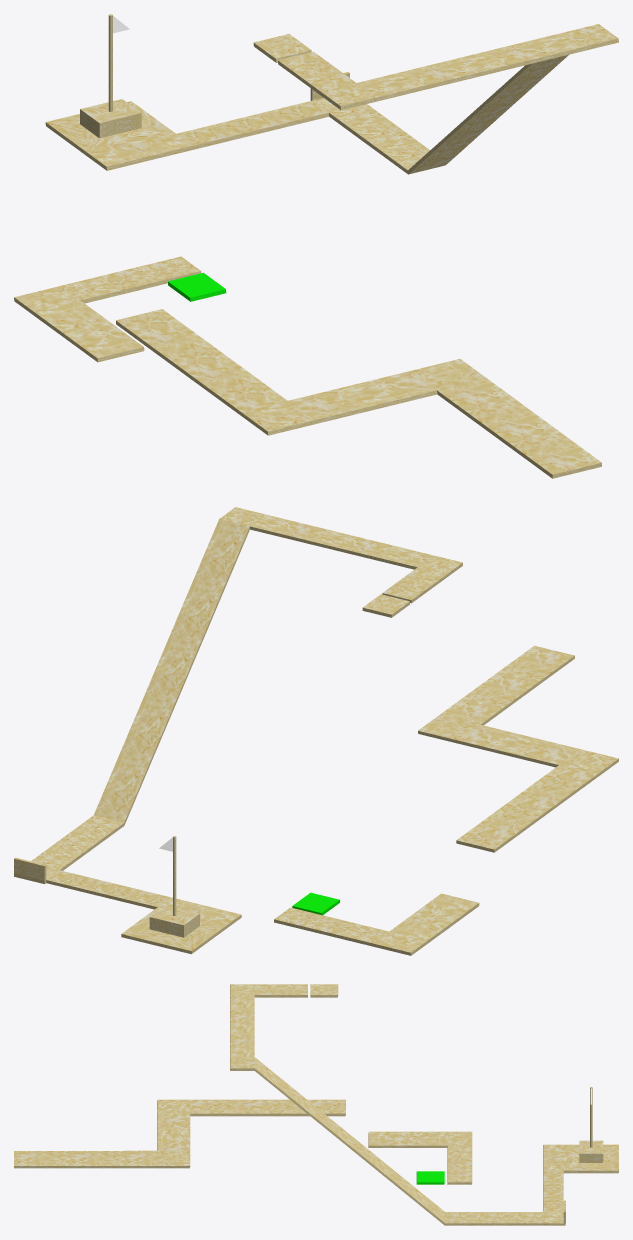
The model's file is level1.glb.
3 views of the same model, one above another, from view 1: azimuth 30°, elevation 25°; view 2: azimuth 150°, elevation 25°; view 3: azimuth 270°, elevation 25° (orthographic). The views are drawn at different scales.
Visible parts, largest first — view 1: road, jump; view 2: road, jump; view 3: road, jump.
Boxes of the visible parts, box(x1,y1,x2,y2) form: road: box(14, 14, 618, 478); jump: box(168, 272, 226, 301); road: box(14, 507, 618, 955); jump: box(292, 892, 339, 915); road: box(14, 984, 618, 1225); jump: box(416, 1171, 444, 1184).
Size of the model in its own units: 16.57 by 11.81 by 34.14.
3 materials, 1 textured.
